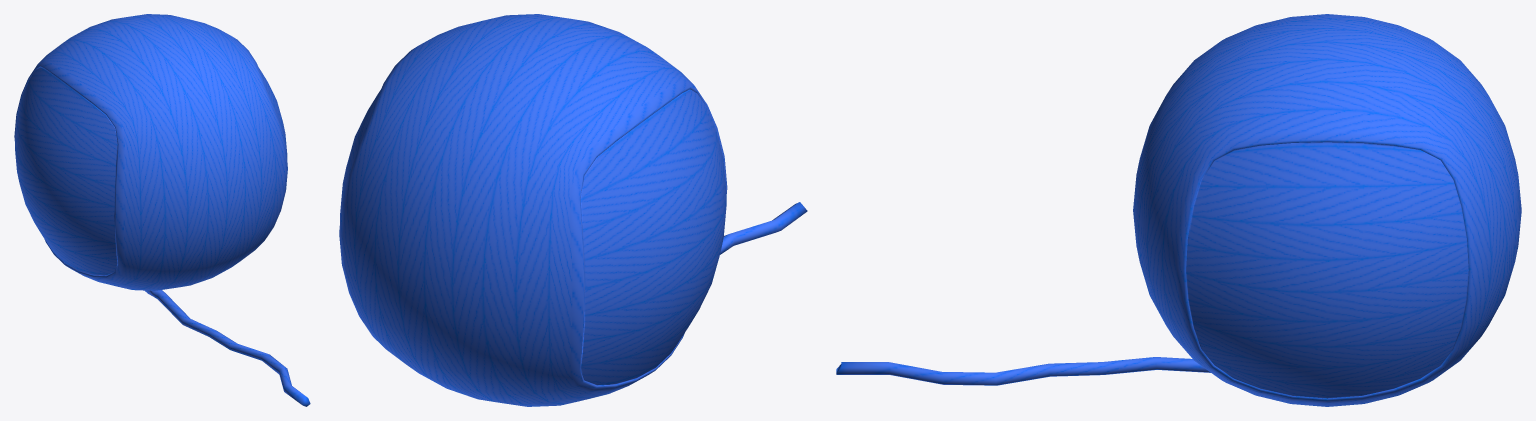
File: ball_of_yarn.glb
The picture shows the model from 3 angles, left to right: view 1: azimuth 30°, elevation 25°; view 2: azimuth 150°, elevation 25°; view 3: azimuth 270°, elevation 25°; orthographic projection. The views are drawn at different scales.
Visible parts, largest first — view 1: Cube; view 2: Cube; view 3: Cube.
Boxes of the visible parts, x1,y1,x2,y2 form: Cube: [14, 14, 310, 406]; Cube: [339, 14, 807, 406]; Cube: [836, 14, 1521, 406].
Bounding box in the file's own units: 1.6 × 1.64 × 2.89.
Materials: 1 (1 with a texture image).
